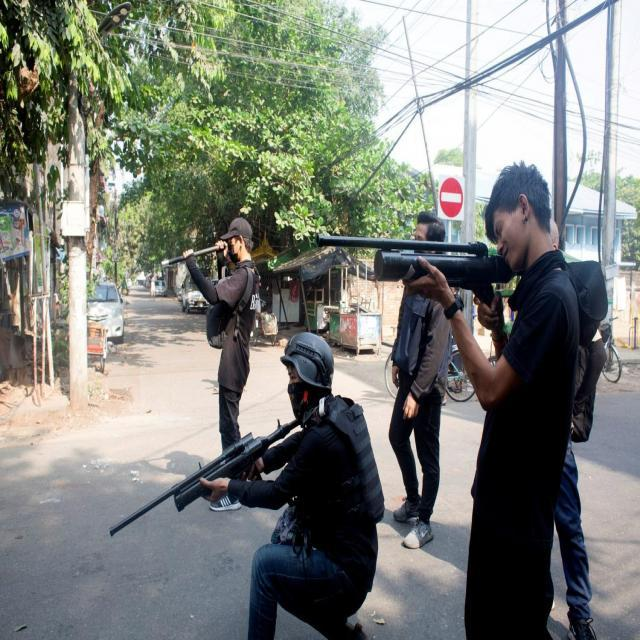gun: (107, 414, 305, 534), (315, 228, 517, 332)
